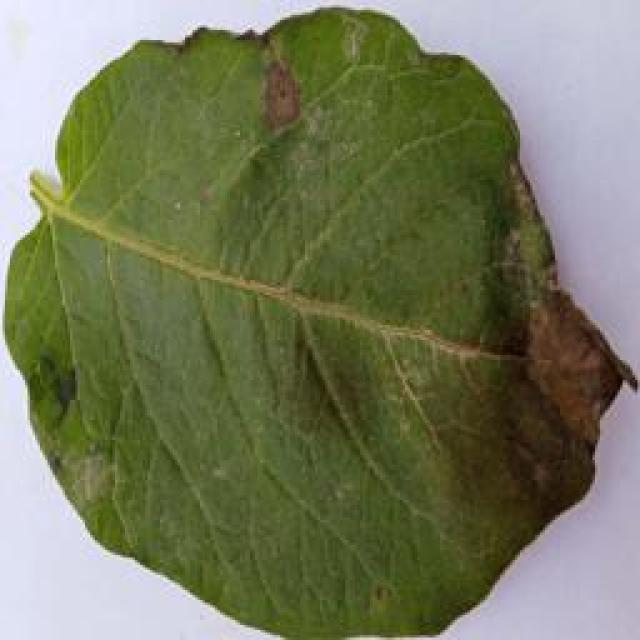Potato_Late_Blight: (3, 4, 630, 633)
